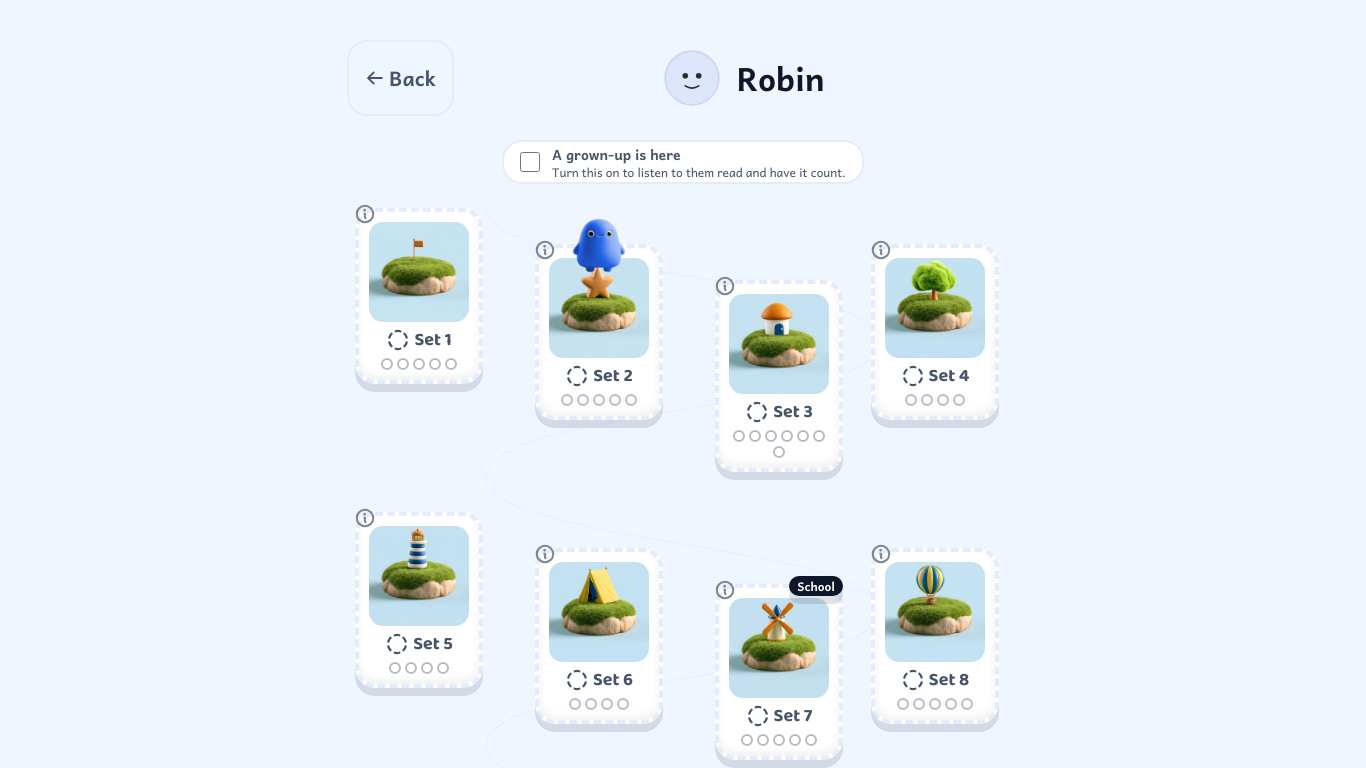
the island the class is working on › shows on the family map, and on that island's words sheet
Check: the text "School" is shown, box [789,576,843,596]
Click the button with test id "island-info-7" at (725, 590), box [703,568,747,612]
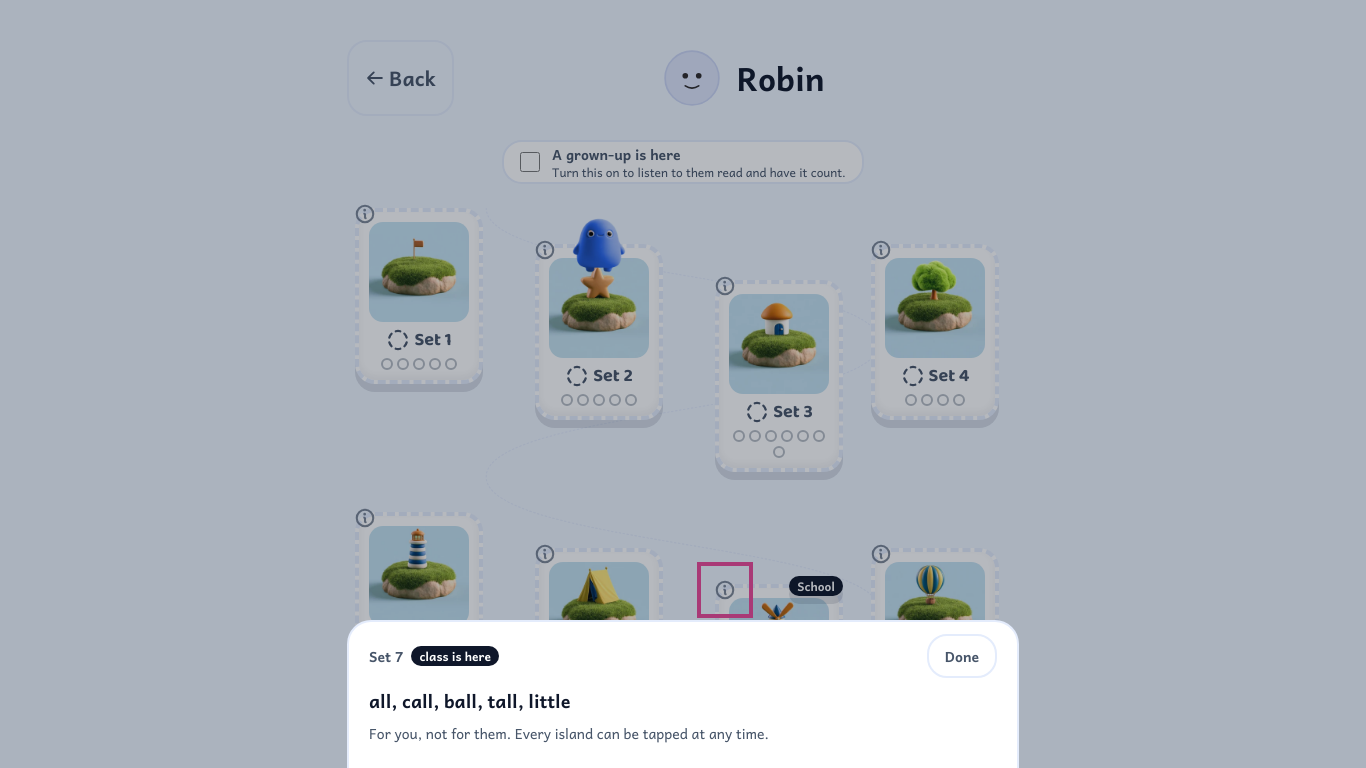
Check: the text "class is here" is shown, box [411,646,499,666]
